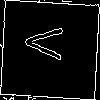V: (25, 25, 72, 61)
